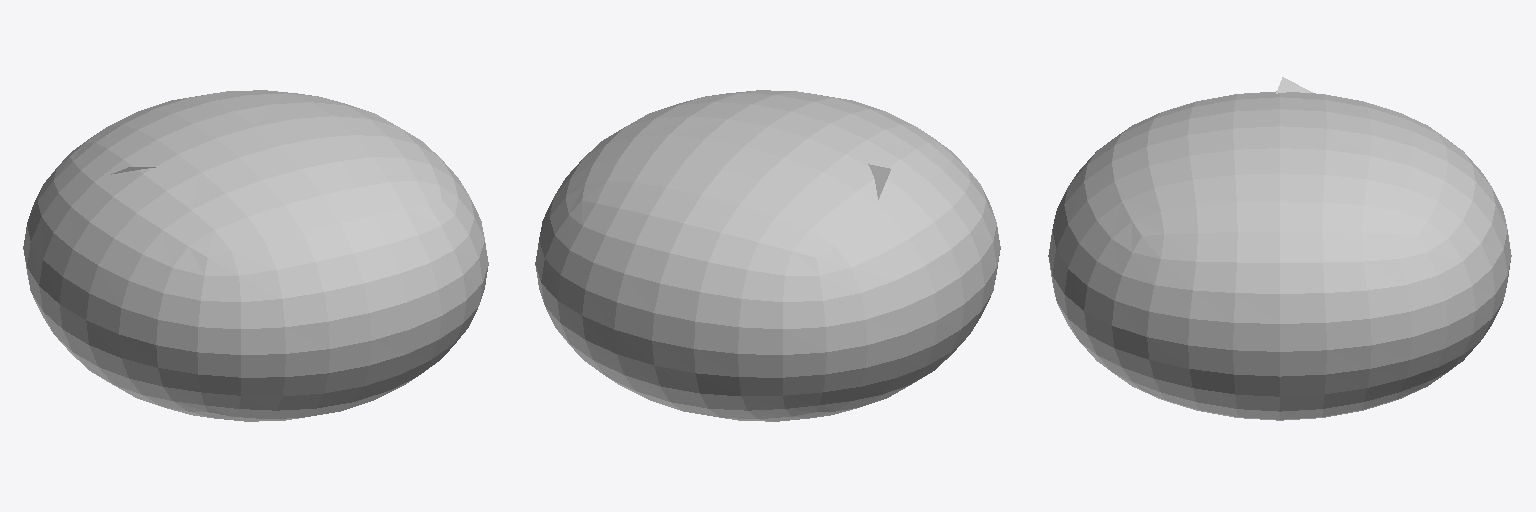
The model's file is toadPie1.obj.
The picture shows the model from 3 angles: view 1: azimuth 30°, elevation 25°; view 2: azimuth 150°, elevation 25°; view 3: azimuth 270°, elevation 25°; orthographic projection.
Visible parts, largest first — view 1: Toad.001; view 2: Toad.001; view 3: Toad.001.
Part boxes in pixels (left/top/right/bottom): Toad.001: left=23, top=90, right=488, bottom=421; Toad.001: left=535, top=90, right=1000, bottom=421; Toad.001: left=1048, top=77, right=1511, bottom=420.
Size of the model in its own units: 1.4 by 0.8839 by 1.43.